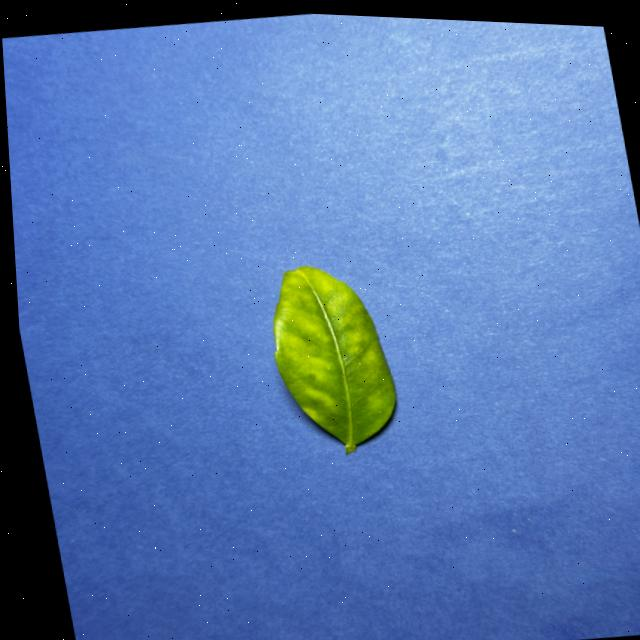greening: (272, 265, 394, 452)
